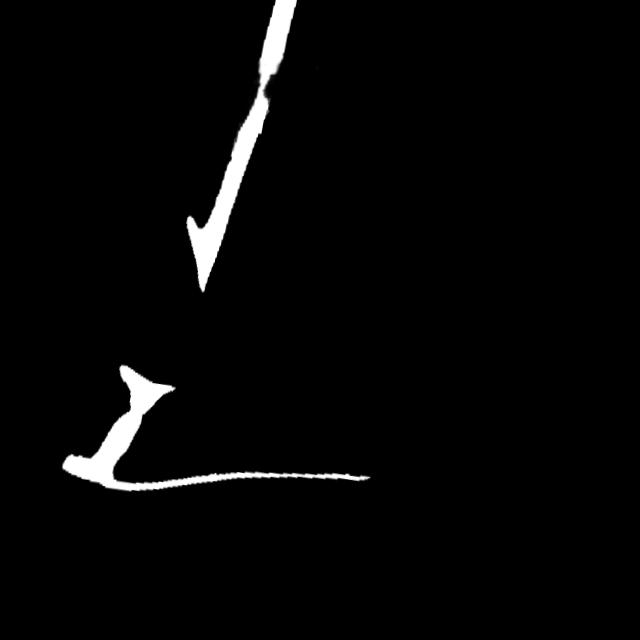sl: (243, 62, 283, 131)
